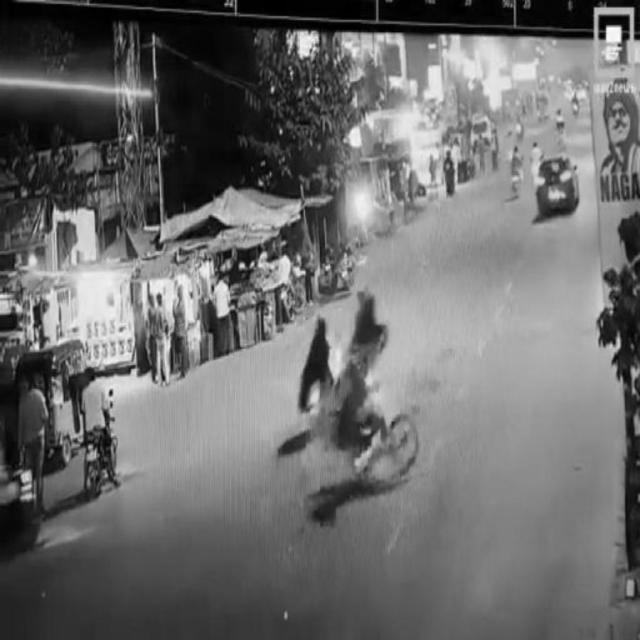accident: (341, 298, 417, 476)
person: (22, 372, 46, 502), (153, 292, 173, 392)
vehicle: (26, 332, 96, 462), (76, 365, 117, 497), (302, 306, 330, 426), (534, 154, 578, 215)
